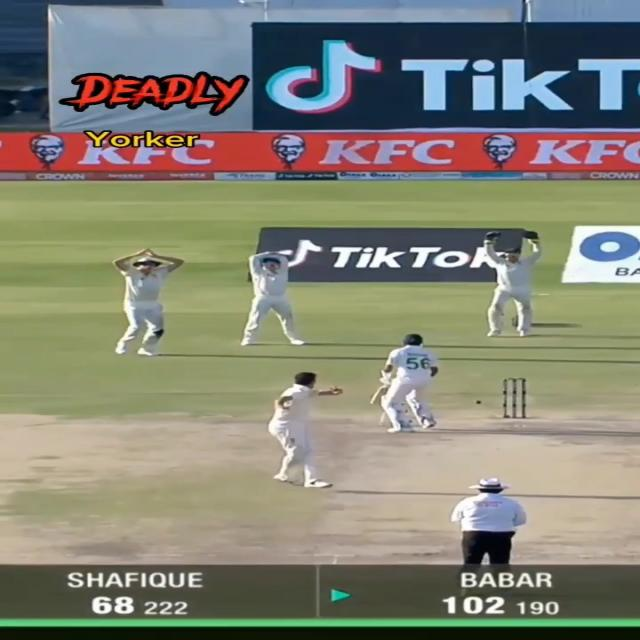ball: (474, 399, 482, 405)
stump: (502, 377, 528, 419)
